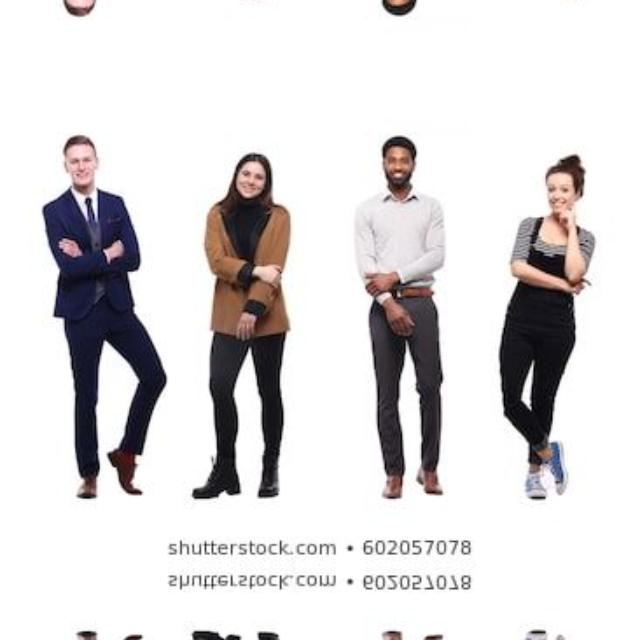person: (498, 150, 592, 472), (34, 117, 160, 351), (195, 144, 297, 376), (341, 126, 452, 258), (34, 0, 160, 33), (340, 0, 451, 23), (195, 0, 297, 6)
